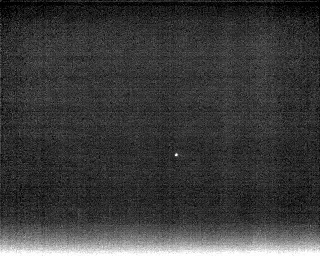BIRD: (172, 150, 181, 160)
